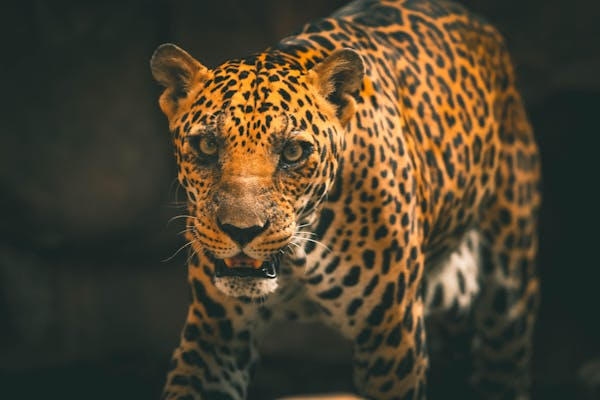Leopard: (147, 1, 544, 400)
